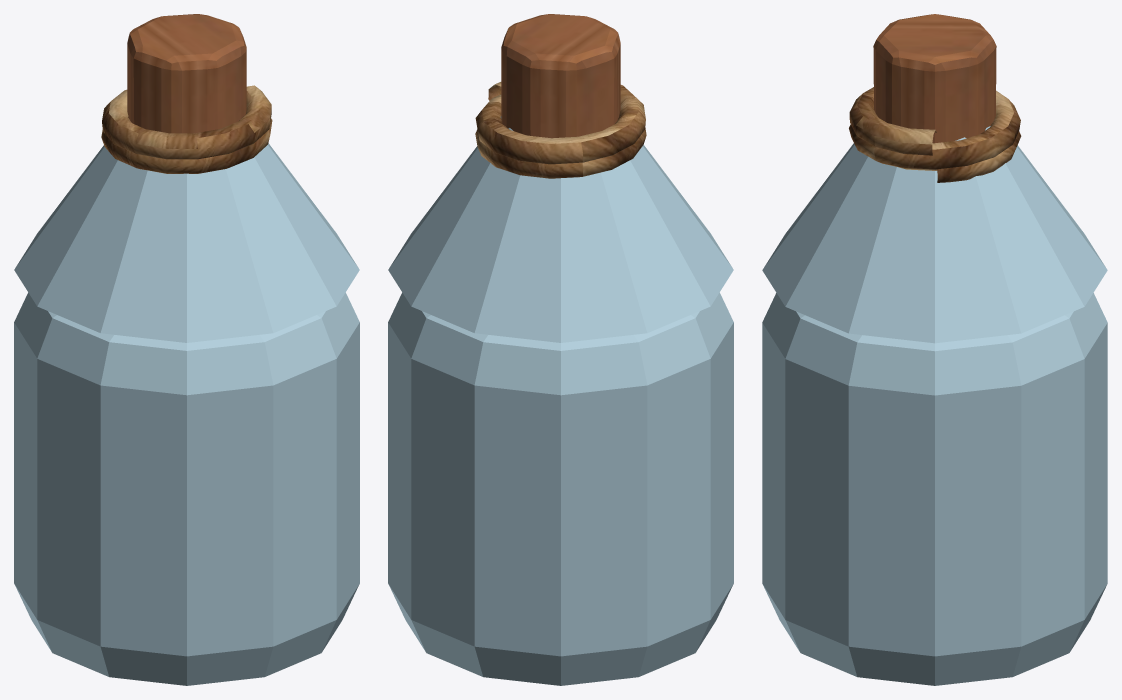
Rendered from bugbane_oil.glb.
3 views of the same model, side by side, from view 1: azimuth 30°, elevation 25°; view 2: azimuth 150°, elevation 25°; view 3: azimuth 270°, elevation 25° (orthographic).
Visible parts, largest first — view 1: model; view 2: model; view 3: model.
Part boxes in pixels (x1,y1,x2,y2): model: (14, 14, 359, 685); model: (388, 14, 733, 685); model: (762, 14, 1107, 685).
Size of the model in its own units: 0.12 by 0.23 by 0.12.
Materials: 4 (2 with a texture image).
